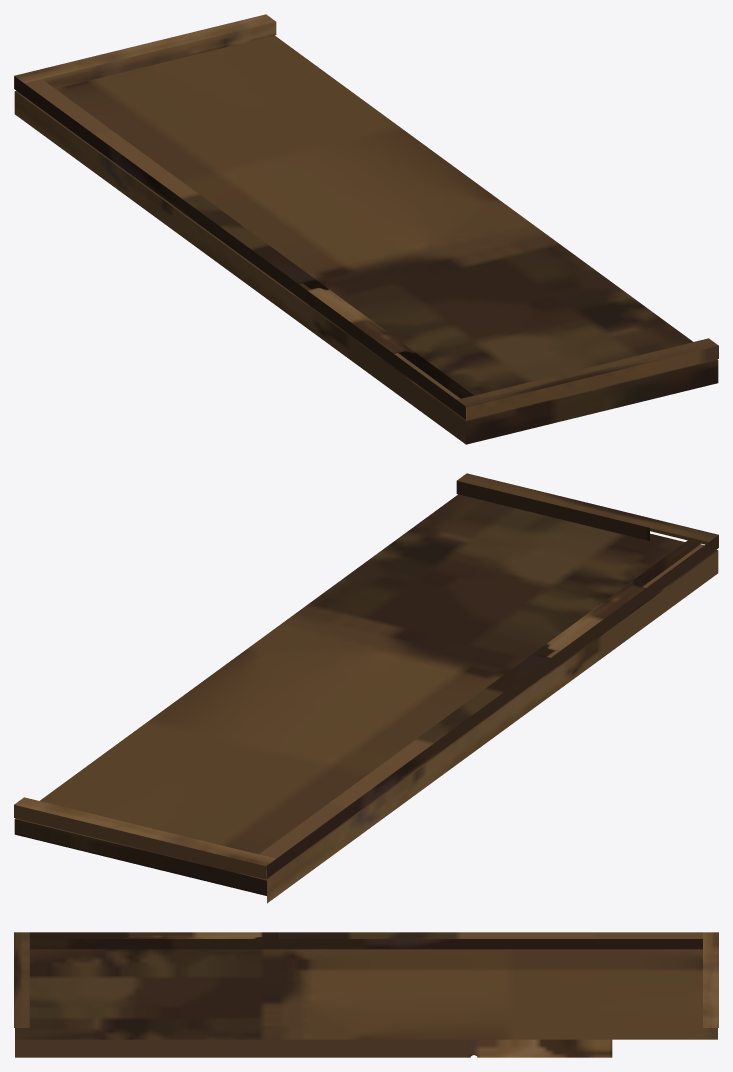
Rendered from section-3.obj.
3 views of the same model, one above another, from view 1: azimuth 30°, elevation 25°; view 2: azimuth 150°, elevation 25°; view 3: azimuth 270°, elevation 25° (orthographic). The views are drawn at different scales.
Bounding box in the file's own units: 0.4 × 0.0575 × 1.24.
